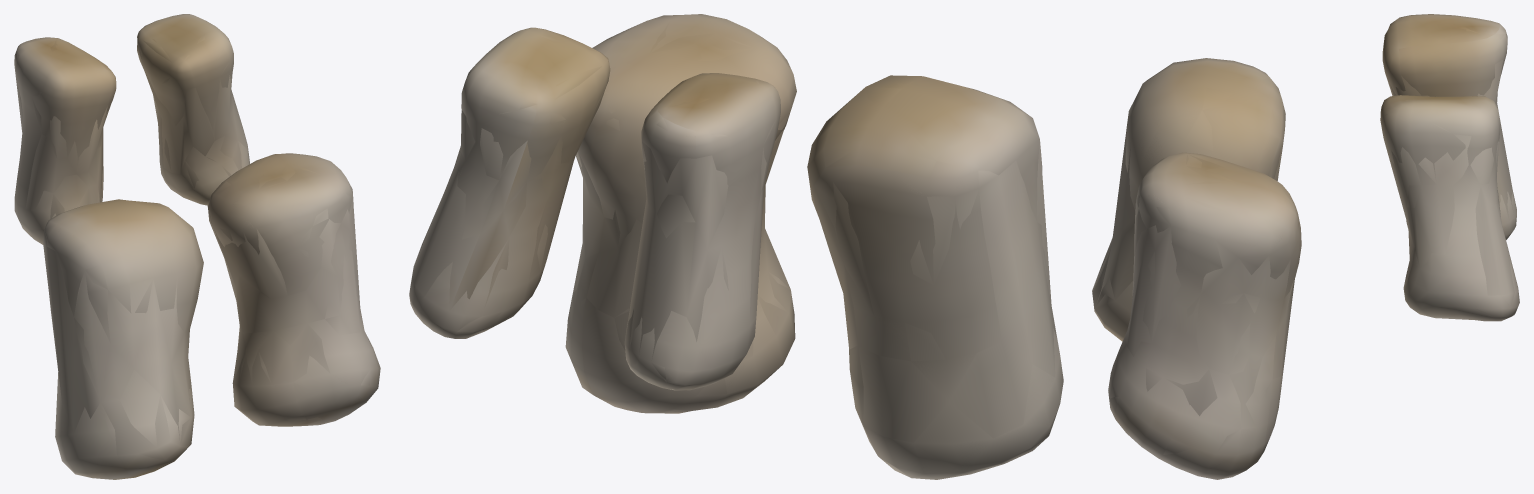
File: FL 1st Phalanx.fbx
3 views of the same model, side by side, from view 1: azimuth 30°, elevation 25°; view 2: azimuth 150°, elevation 25°; view 3: azimuth 270°, elevation 25° (orthographic). The views are drawn at different scales.
Parts seen in each view (by area): view 1: FL 1st Phalanx, FL 1st Phalanx low; view 2: FL 1st Phalanx, FL 1st Phalanx low; view 3: FL 1st Phalanx, FL 1st Phalanx low.
Part boxes in pixels (x1=…): FL 1st Phalanx: x1=14, y1=14, x2=380, y2=479; FL 1st Phalanx low: x1=14, y1=28, x2=370, y2=477; FL 1st Phalanx: x1=409, y1=14, x2=1063, y2=479; FL 1st Phalanx low: x1=412, y1=21, x2=1056, y2=477; FL 1st Phalanx: x1=1092, y1=14, x2=1519, y2=479; FL 1st Phalanx low: x1=1092, y1=17, x2=1517, y2=471.
Size of the model in its own units: 2.6 by 2.63 by 2.75.
